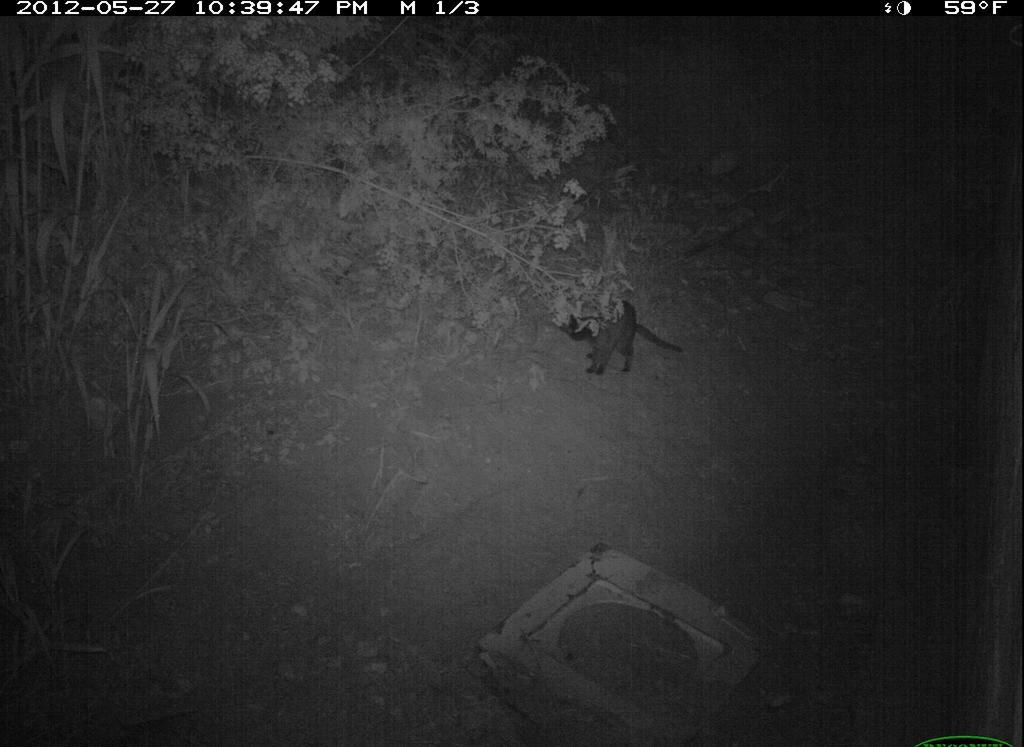cat: (547, 294, 690, 387)
